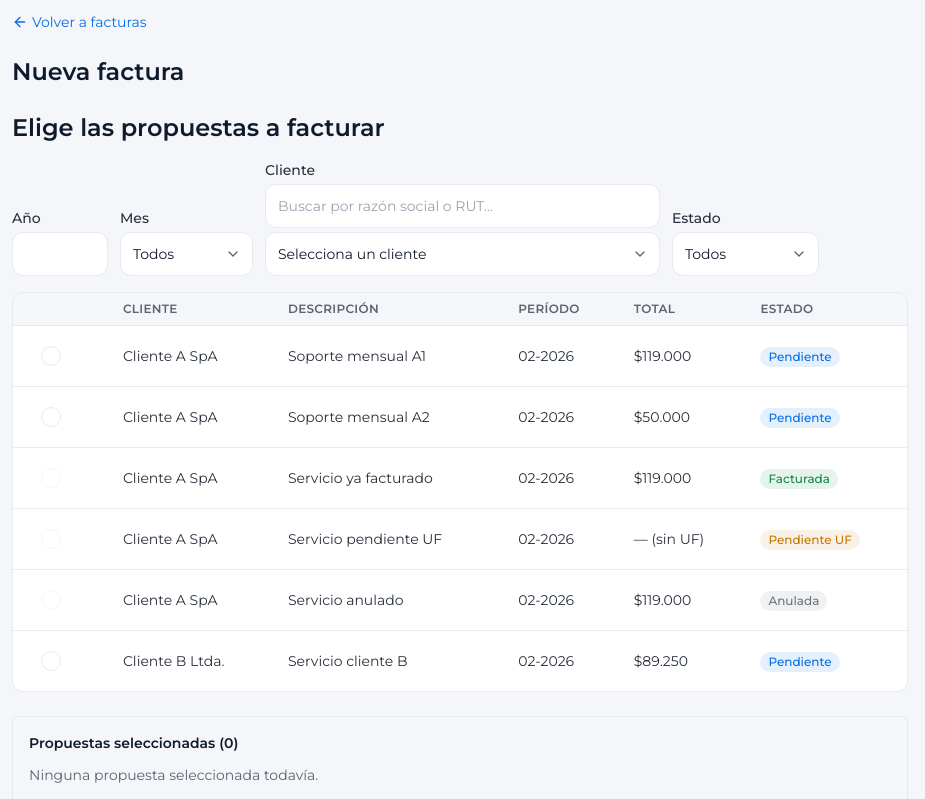
Test: NuevaFactura › al seleccionar una propuesta se restringe la selección a su mismo cliente
Expected: the checkbox named "Servicio cliente B" is enabled, [41,651,61,671]
Click the checkbox named "Soporte mensual A1". click: (51, 356)
box: [41,346,61,366]
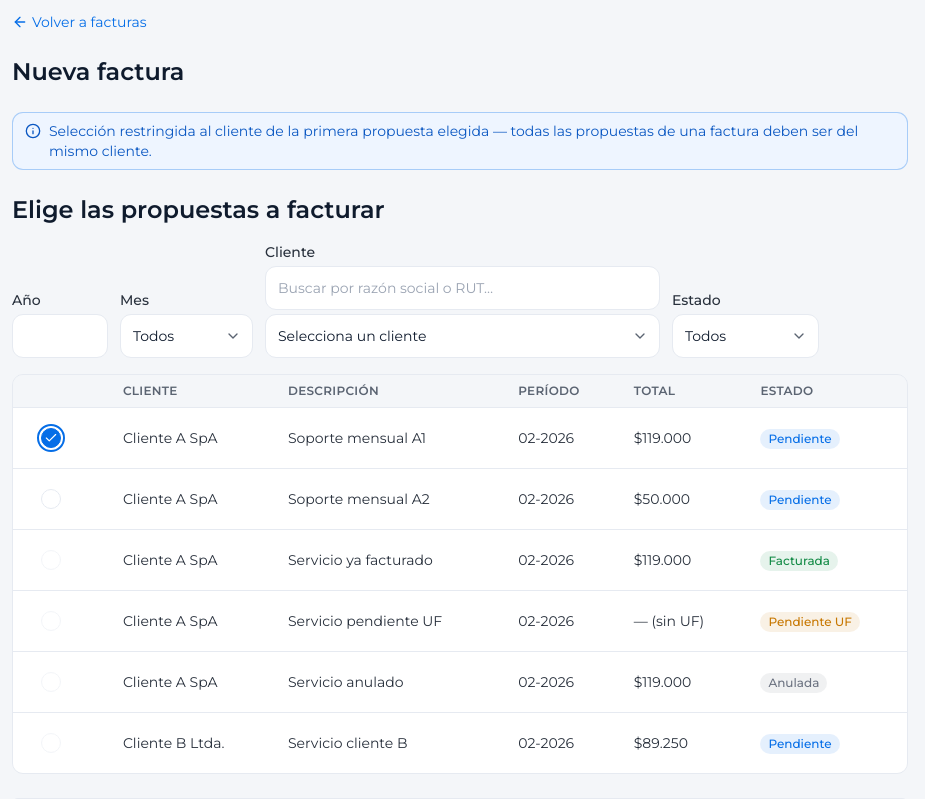
Result: the text "Selección restringida al cliente de la primera propuesta elegida" is shown at [49,122,858,160]
